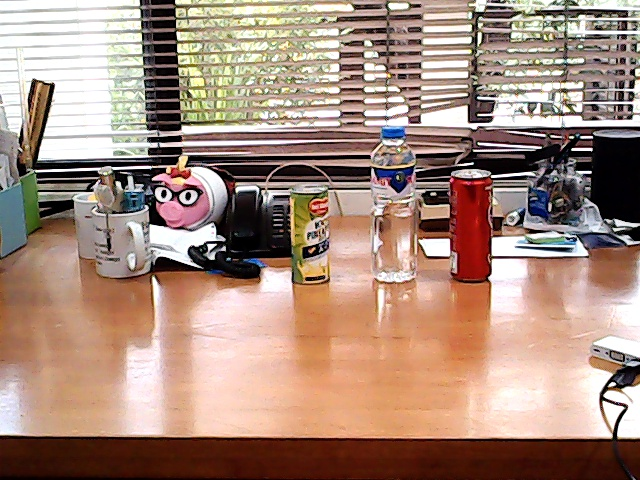Cola: (442, 157, 501, 287)
Pine Juice: (281, 172, 338, 291)
Summit Water: (363, 118, 427, 288)
